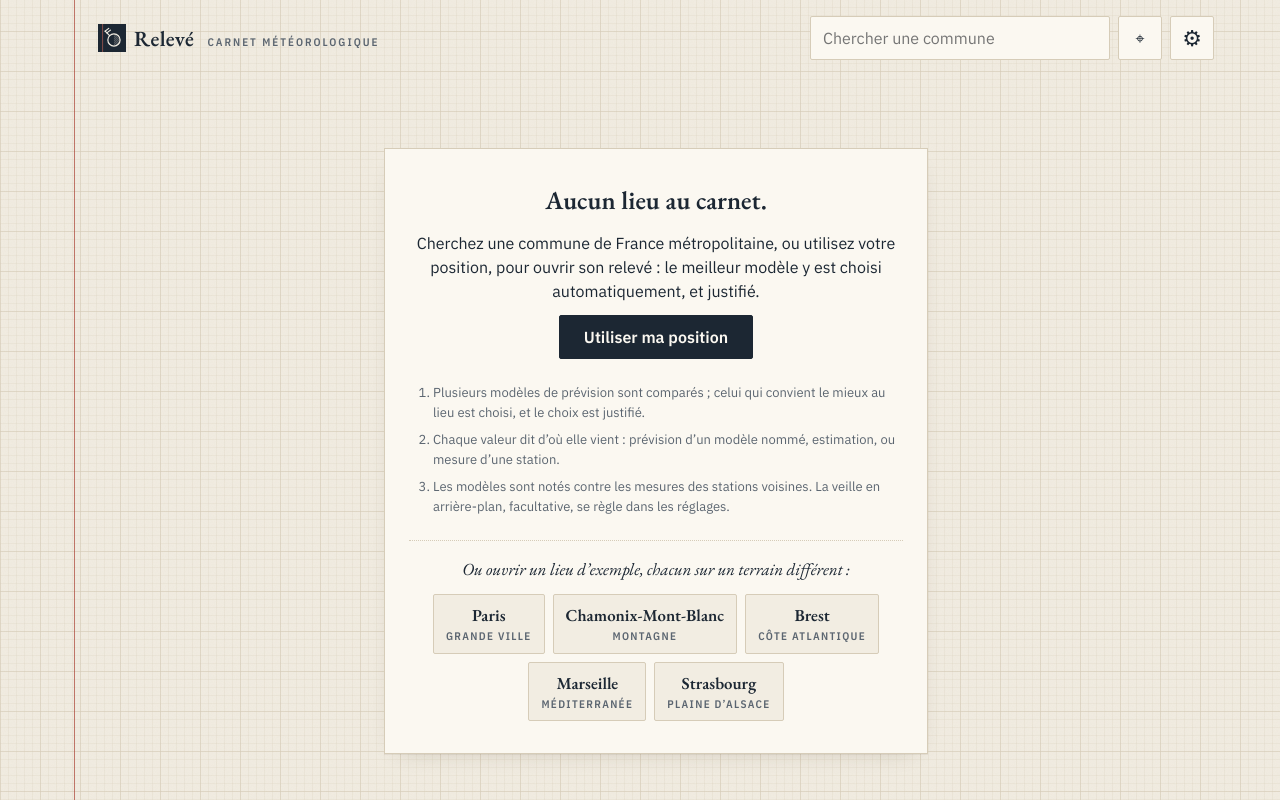
App › ouvre le releve du lieu choisi, avec le modele retenu et sa justification
This screenshot has width=1280, height=800.
Type "Lyon" into the search field labelled "Chercher une commune". click: (960, 38)
box: [810,16,1110,60]
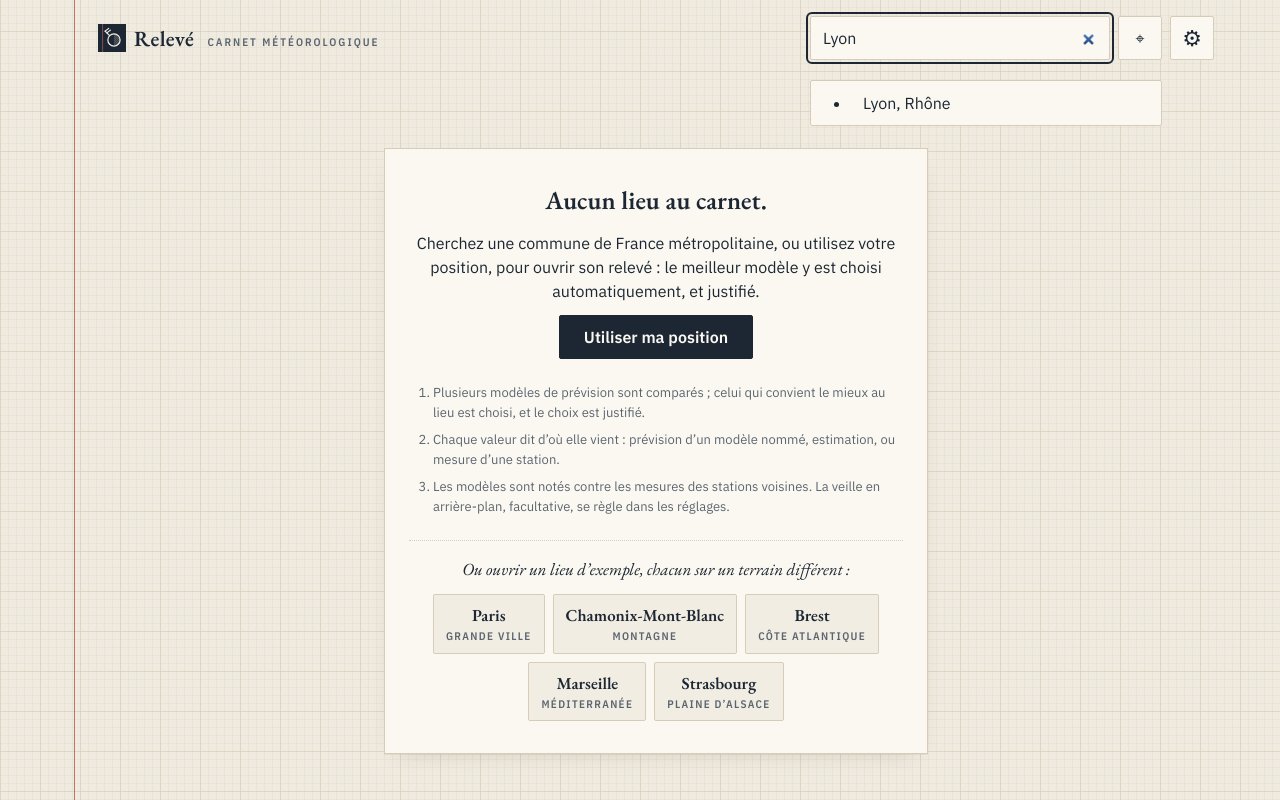
Click the button "Lyon, Rhône". click: (880, 103)
box: [851,81,1161,125]
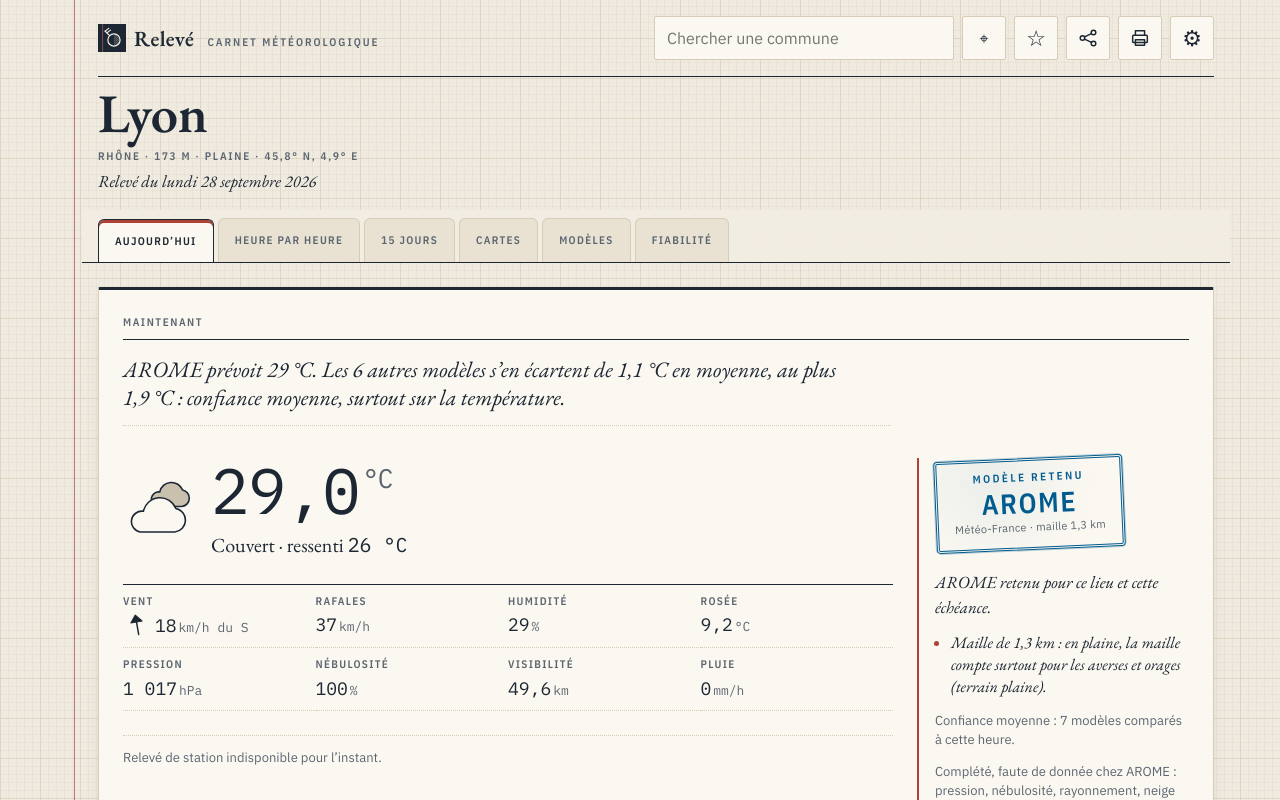
Now the heading "Lyon" is shown, box [98,77,208,148]
Now the element showing "Modèle retenu AROME Météo-France · maille 1,3 km" is shown, box [933,454,1126,554]
Now the text "AROME retenu pour ce lieu et cette échéance." is shown, box [935,570,1189,620]
